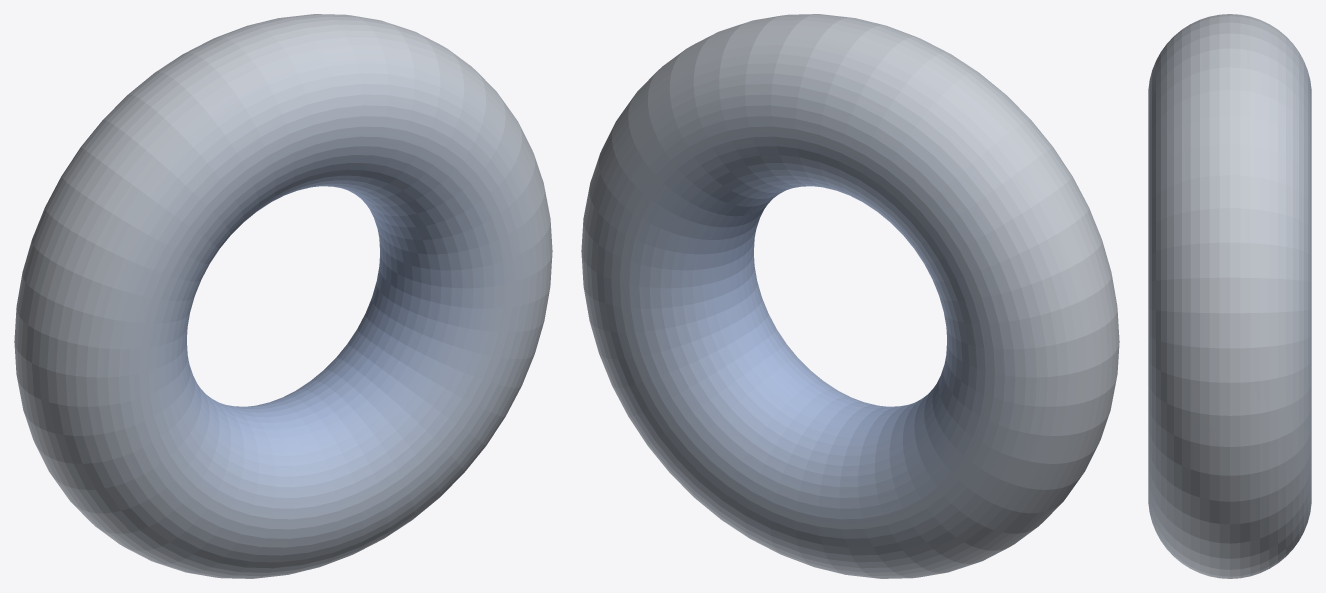
The picture shows the model from 3 angles, left to right: view 1: azimuth 30°, elevation 25°; view 2: azimuth 150°, elevation 25°; view 3: azimuth 270°, elevation 25°; orthographic projection. The views are drawn at different scales.
Parts seen in each view (by area): view 1: world; view 2: world; view 3: world.
Boxes of the visible parts, x1,y1,x2,y2 form: world: (14,14,552,578); world: (581,14,1119,578); world: (1148,14,1311,578).
Size of the model in its own units: 22.53 by 22.49 by 6.52.
